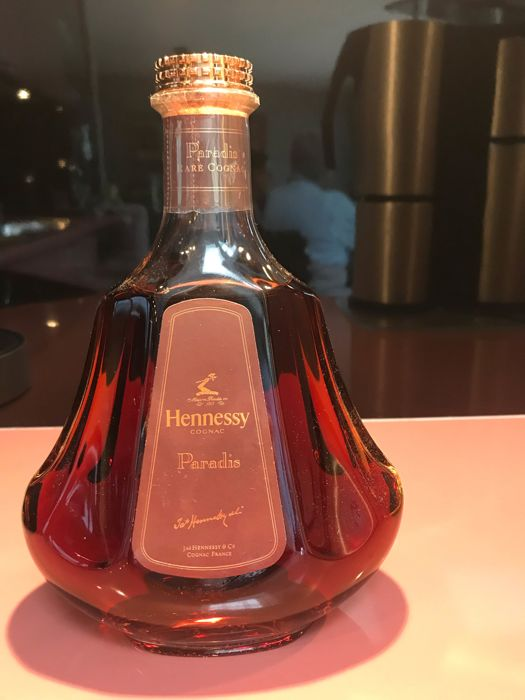Hennessy: (16, 42, 413, 664)
